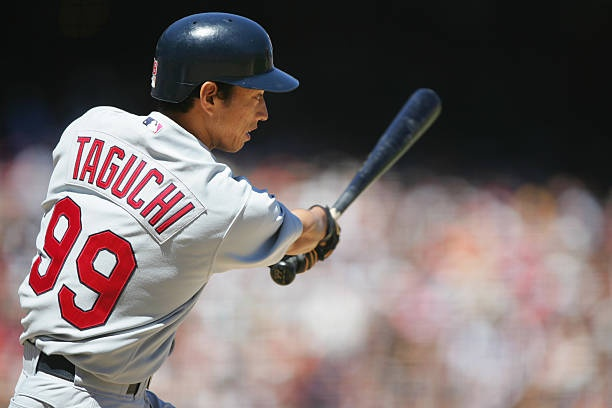bita: (273, 89, 442, 287)
